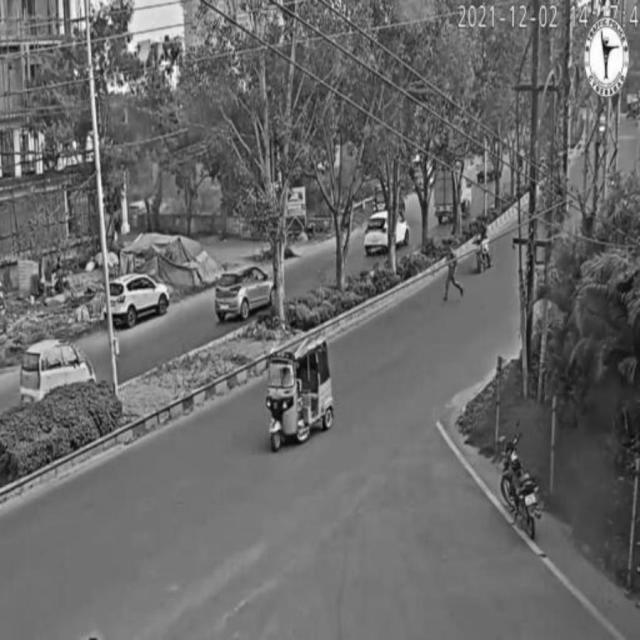person: (440, 241, 464, 299)
vehicle: (263, 334, 335, 445), (18, 334, 98, 404), (502, 433, 539, 541), (215, 263, 279, 323), (109, 267, 171, 327), (431, 168, 472, 223), (367, 212, 411, 250), (476, 215, 494, 273)
